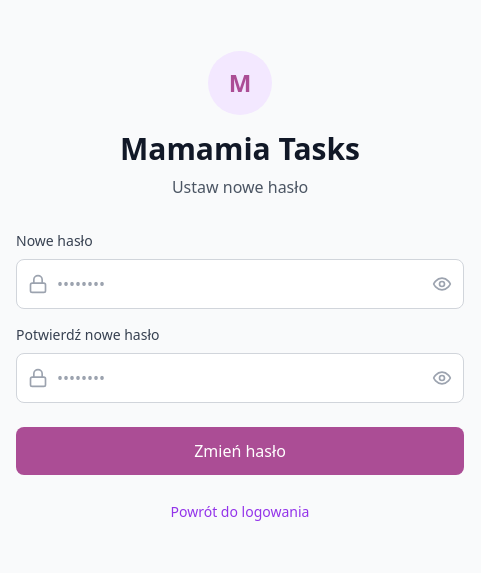
Test: ResetPasswordForm › shows validation error when passwords do not match
The width and height of the screenshot is (481, 573).
Type "password123" into the password field labelled "Nowe hasło" at (240, 284), box [16, 259, 464, 309]
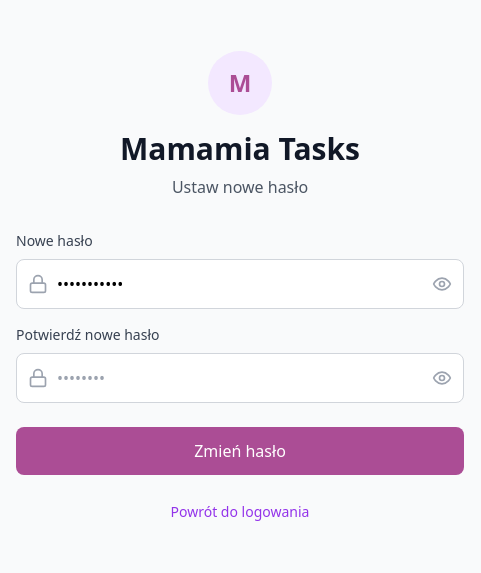
Type "different123" into the password field labelled "Potwierdź nowe hasło" at (240, 378), box [16, 353, 464, 403]
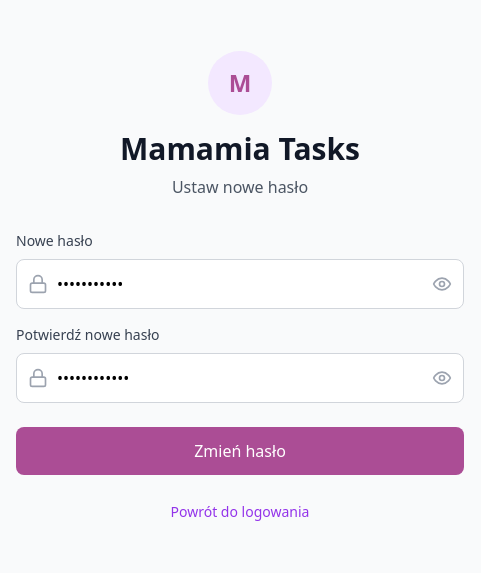
Click the button "Zmień hasło" at (240, 451), box [16, 427, 464, 475]
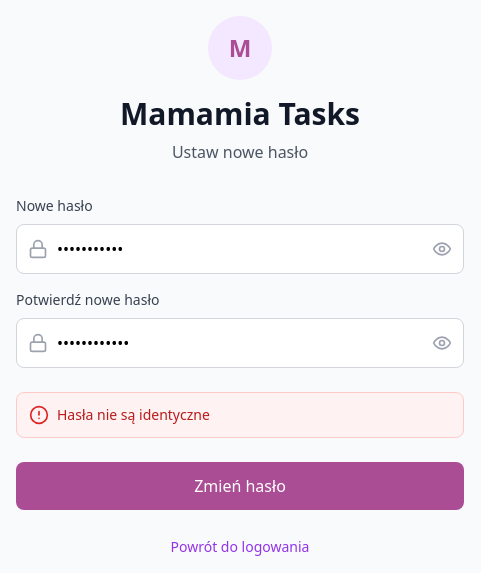
Expected: the text "Hasła nie są identyczne" is shown, [57, 405, 210, 425]
